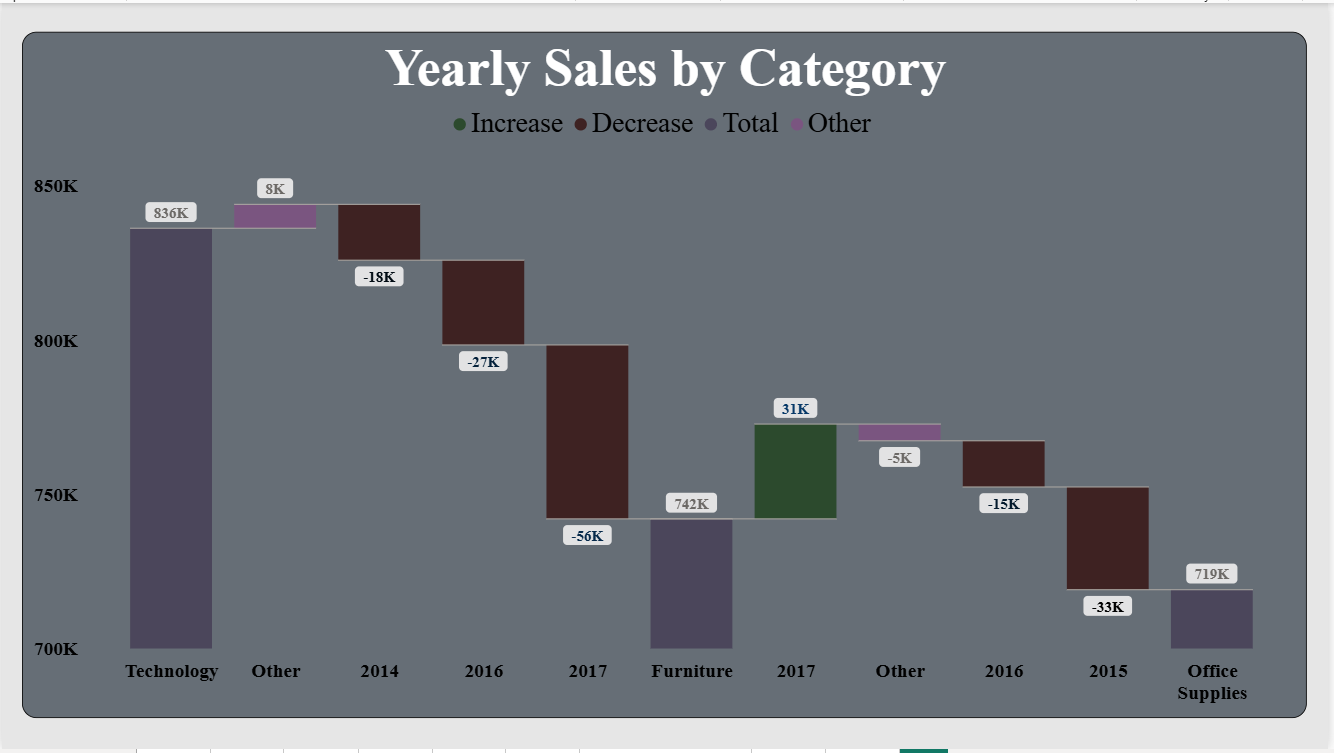

The page's visual inventory and layout, read from the dashboard file:
{"tool":"powerbi","page":{"name":"Q4.","canvas":[1280,720],"ordinal":2},"visuals":[{"type":"waterfallChart","title":"Yearly Sales by Category","fields":{"Category":["Orders.Category"],"Y":["Orders.Total Sales"],"Breakdown":["Orders.year"]},"box":[13.7,27.4,1251.5,677.9],"z":0}]}

Visuals, with their boxes in screenshot pixels (x1, y1, x2, y2), scaled from the page's 1280x720 canvas onto the 1334x753 screenshot:
"Yearly Sales by Category" waterfallChart: (14,29,1319,738)
